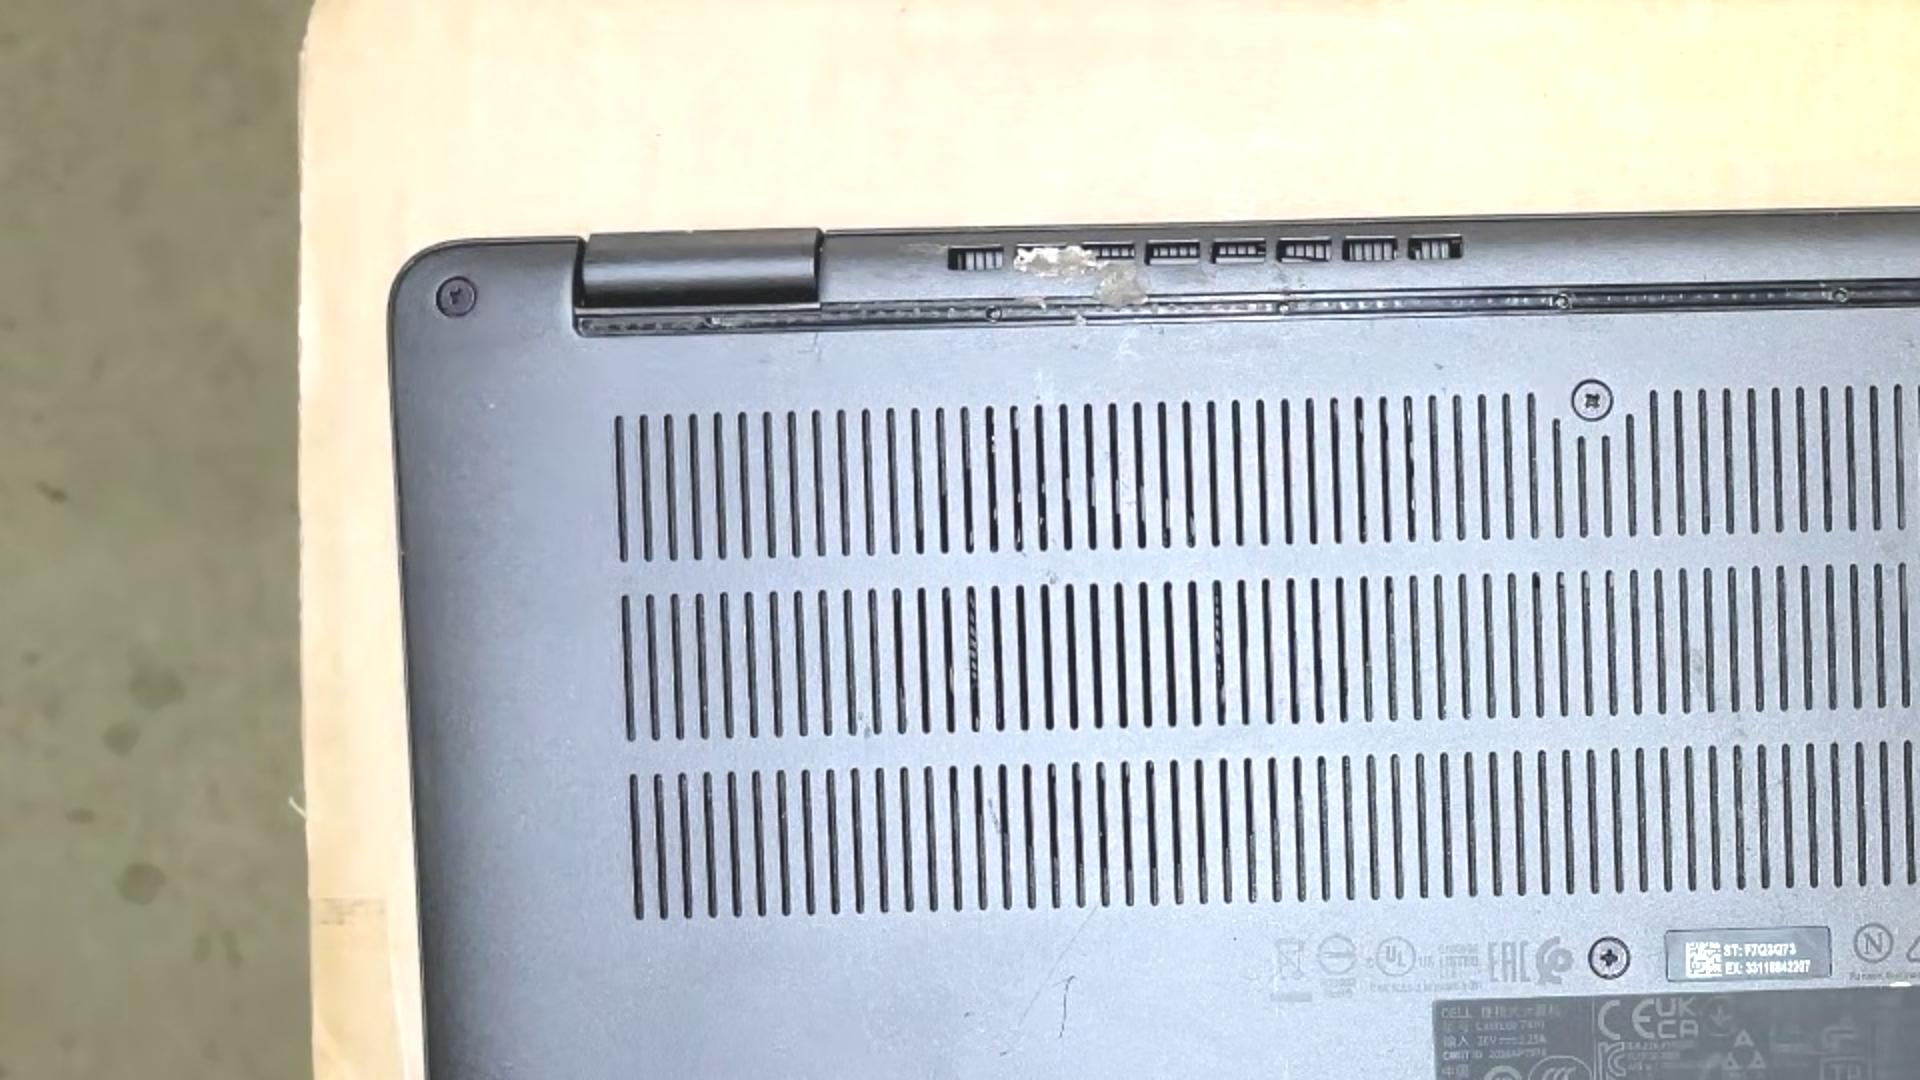chip: (1431, 361, 1448, 372), (961, 1010, 975, 1019), (997, 1050, 1010, 1058), (1230, 935, 1240, 943)
scratches: (1014, 897, 1101, 1029), (1058, 973, 1076, 1038), (1270, 940, 1280, 1019), (1270, 260, 1292, 290), (985, 796, 1000, 835), (1887, 980, 1915, 986), (1282, 1059, 1290, 1080)
